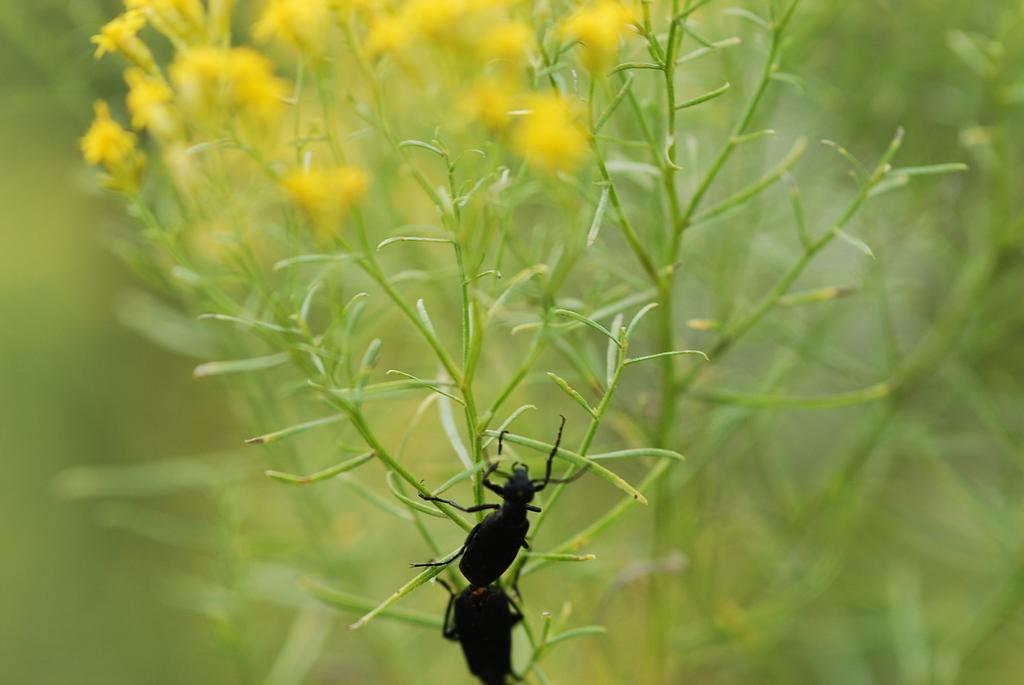blister_beetle: (397, 394, 588, 594), (414, 565, 547, 685)
